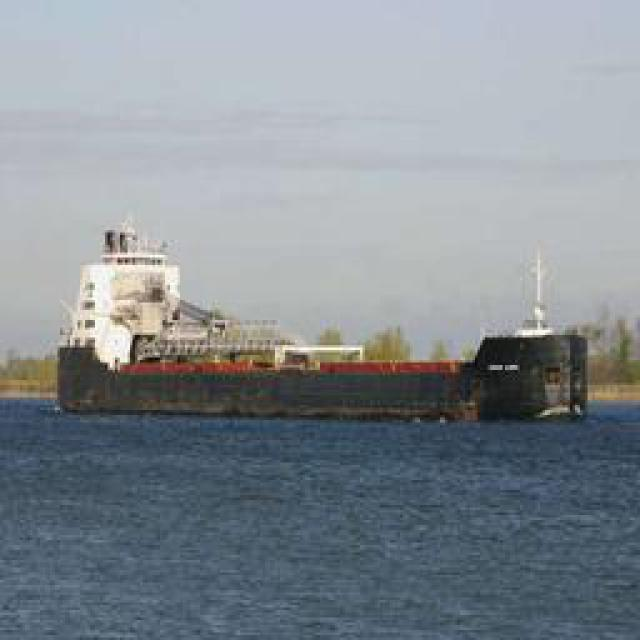Ship: (48, 206, 597, 433)
